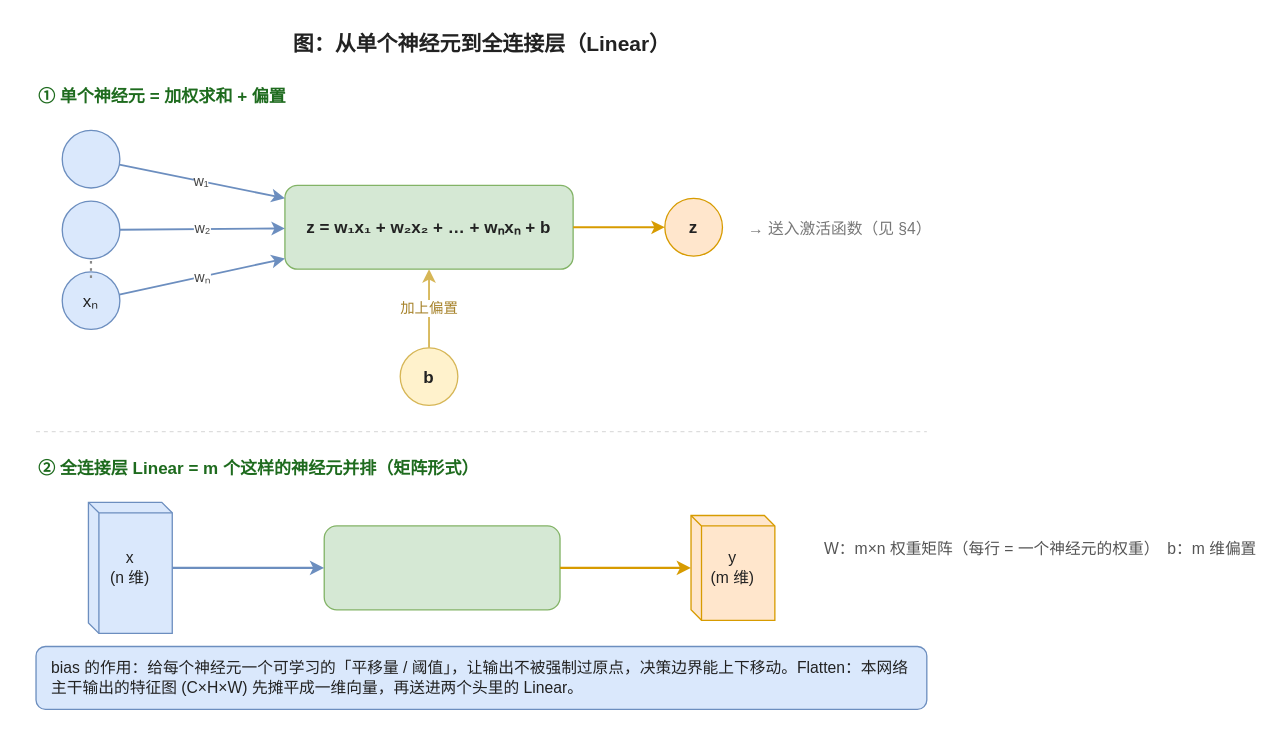
Image size: 1279x732. Some labels were removed from this diagram. The shapes that lost their labels are listed below. From the top down, each one's box as (x1, y1, x2, y2) in pixels, then its label:
(61, 129, 120, 188): x₁
(61, 200, 120, 259): x₂
(323, 525, 560, 610): y = W x + b
